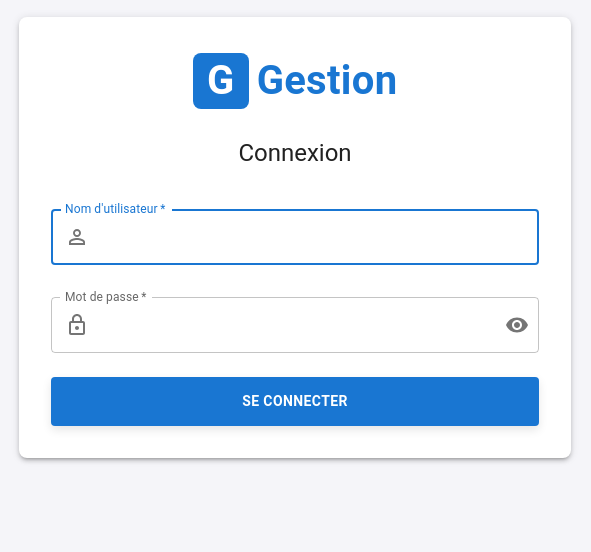
Test: Login Component › should handle network error gracefully
Type "testuser" into the field labelled "Nom d'utilisateur *". click: (318, 237)
box: [97,209,539,265]
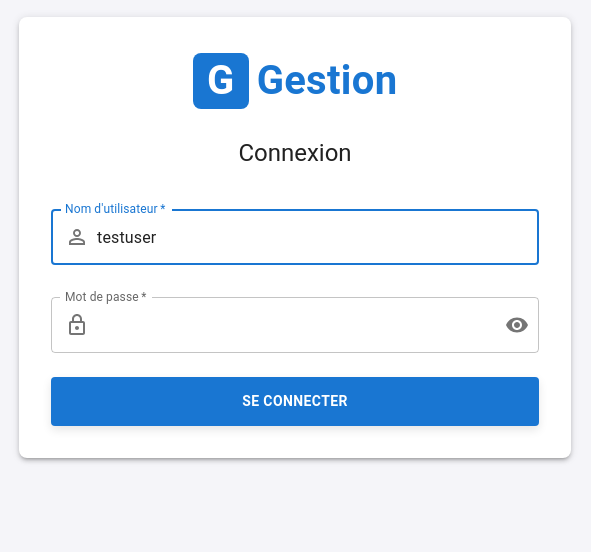
Type "testpass123" into the password field labelled "Mot de passe *". click: (293, 325)
box: [97,297,489,353]
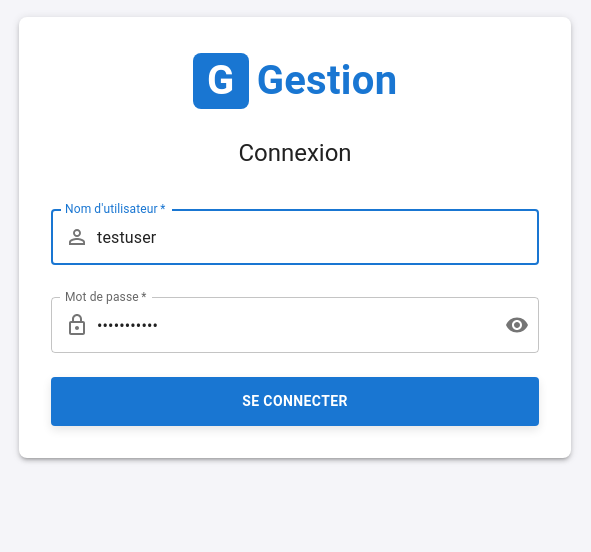
Click the button "Se connecter". click: click(295, 401)
box: [51,377,539,426]
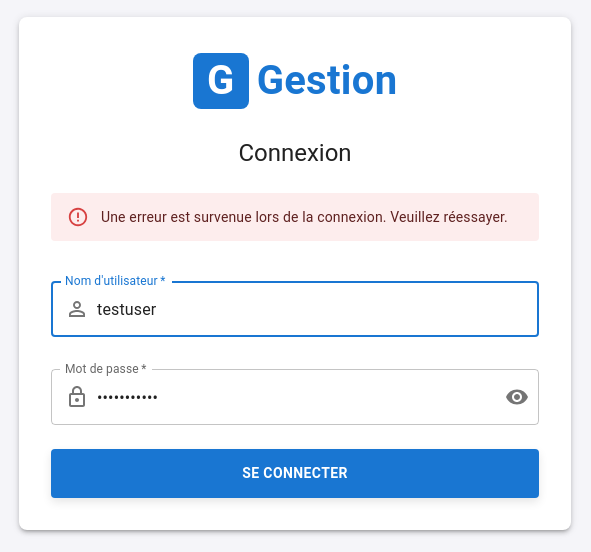
Expected: the text "Une erreur est survenue lors de la connexion" is shown, [101,209,508,225]
